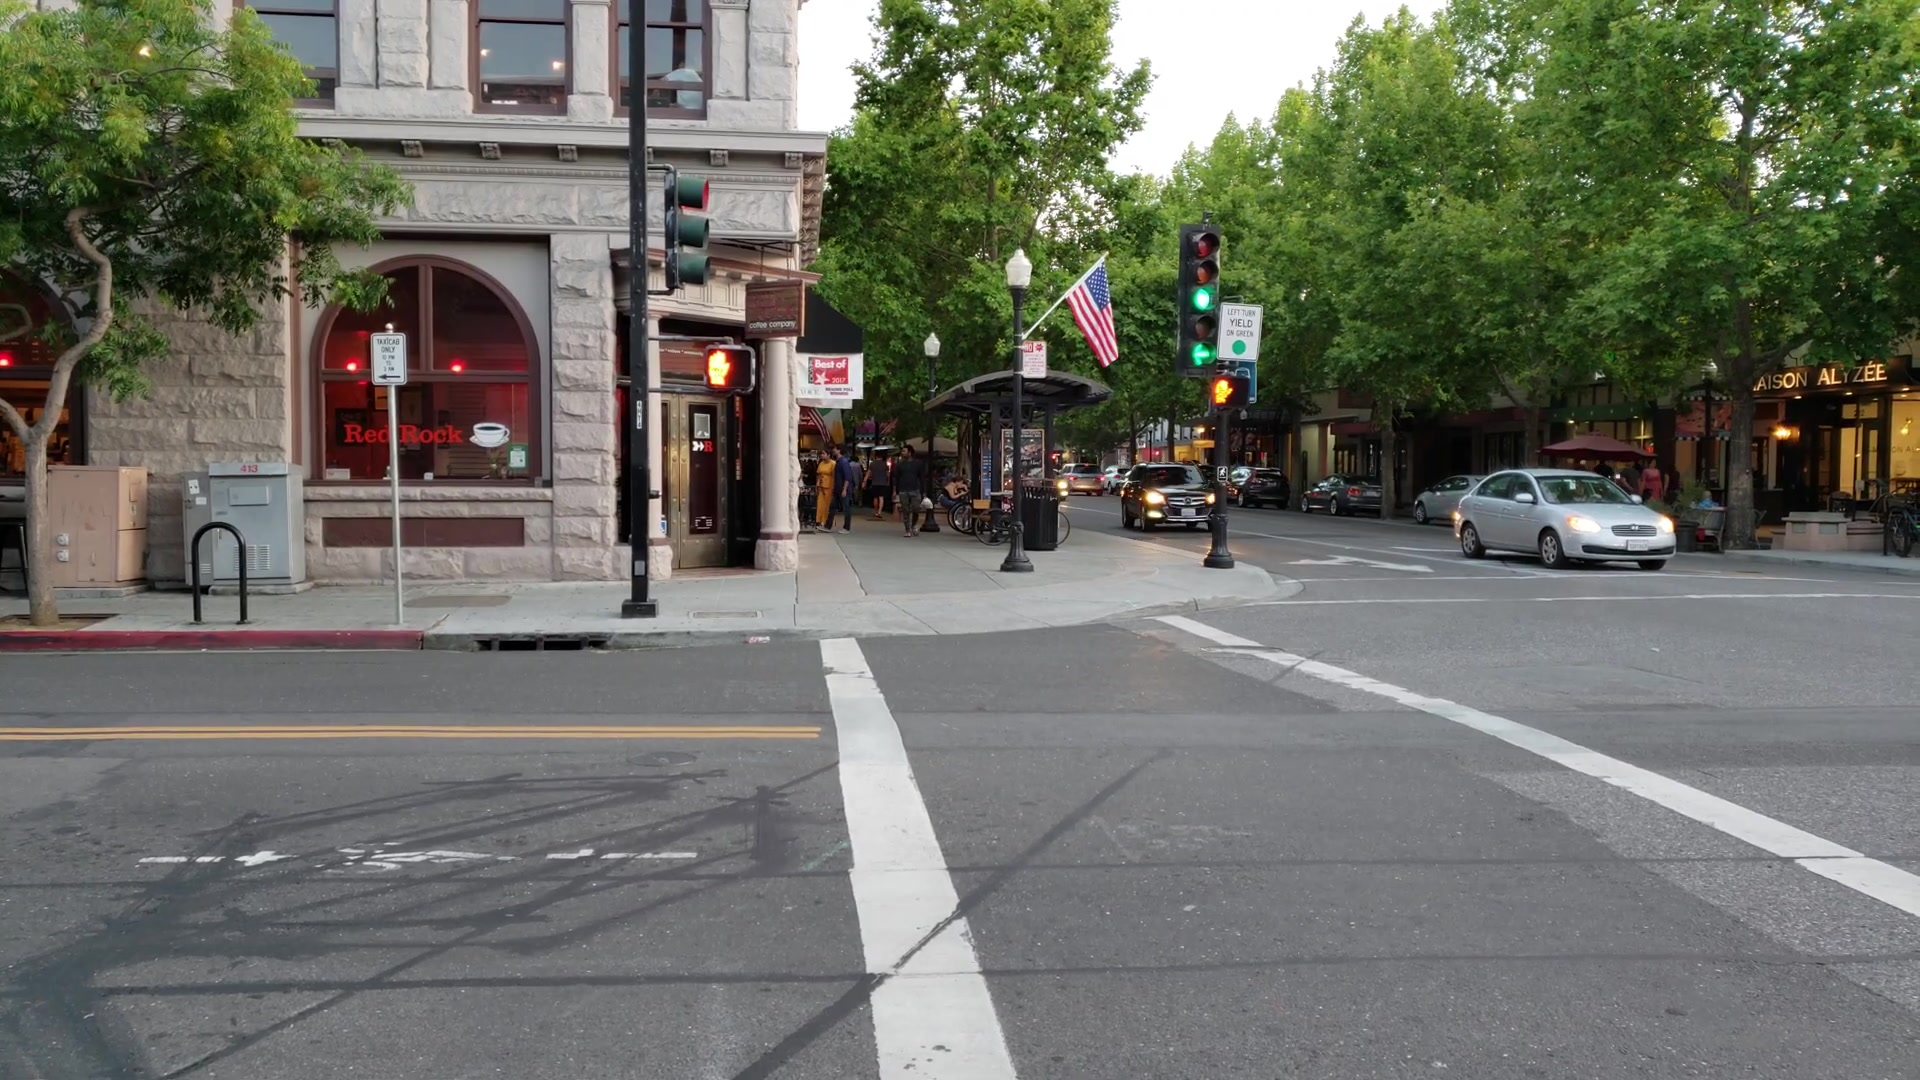vehicle: (1453, 465, 1677, 568), (1122, 464, 1215, 531)
